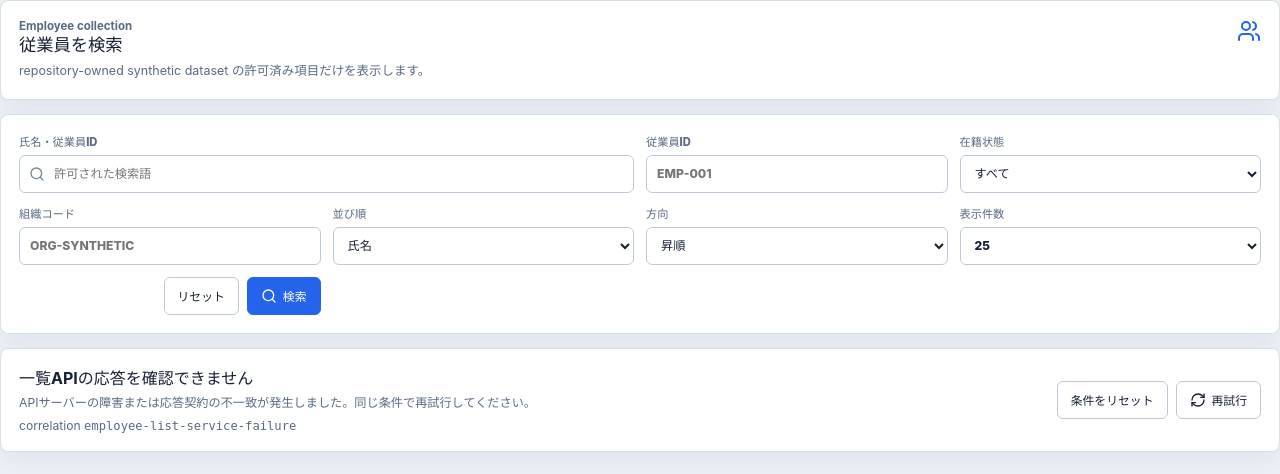
Scenario: employee list screen › distinguishes service and contract failures from network failures
The image size is (1280, 474).
Expected: the text "一覧APIの応答を確認できません" is shown, [19,368,253,388]
Expected: the text "employee-list-service-failure" is shown, [84,419,296,433]
Click the button "再試行": {"x": 1218, "y": 400} [1176,381,1261,419]
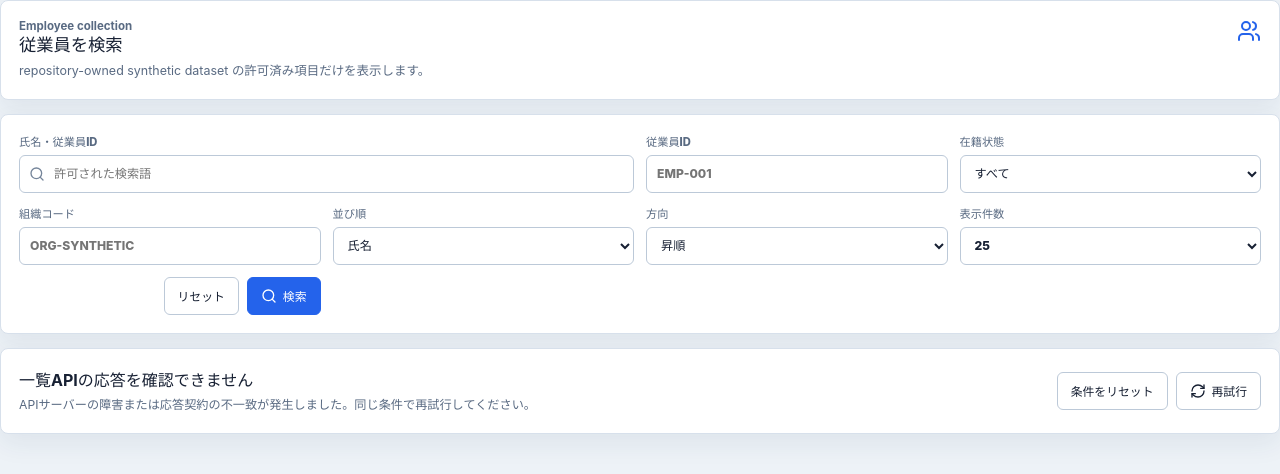
Expected: the text "一覧APIの応答を確認できません" is shown, [19,370,253,390]
Now the text "employee-list-service-failure" is gone
